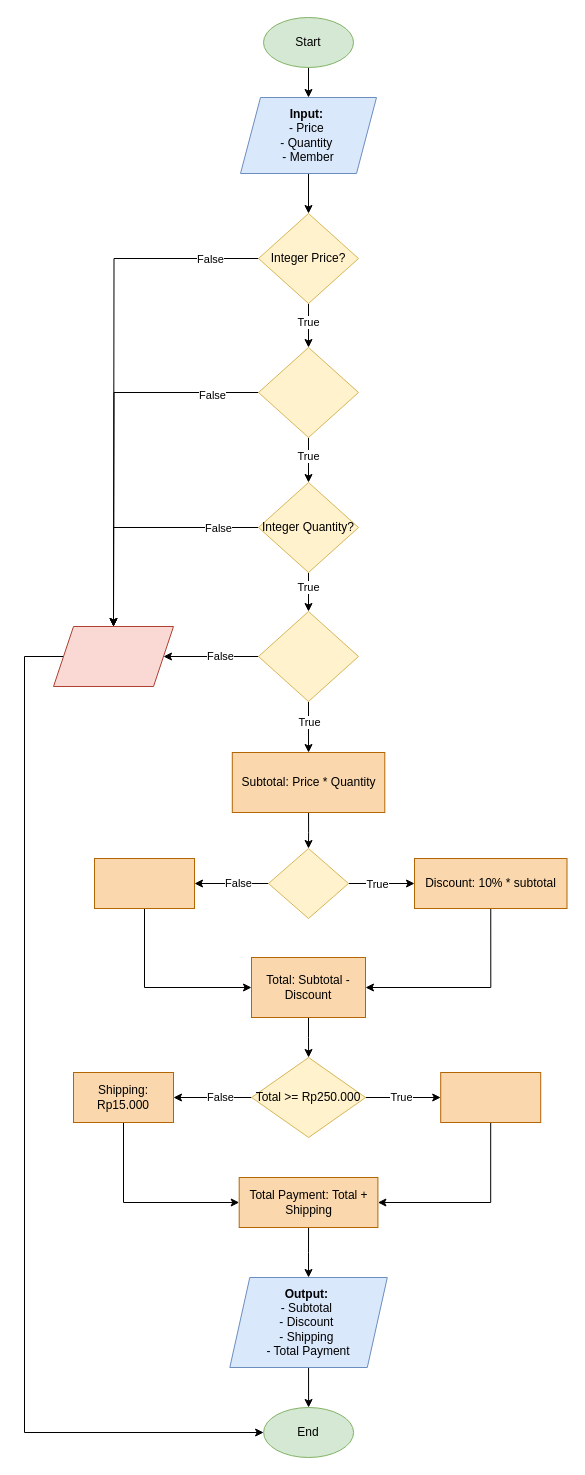
Image size: 585x1475. Some labels were removed from this diagram. Here are the shapes that lost their labels. From the top down, the box of each, then its label:
(258, 346, 358, 438): Price > 0?
(52, 626, 174, 686): Output: "Input tidak valid"
(258, 610, 358, 702): Quantity > 0?
(94, 858, 194, 908): Discount: 0
(268, 848, 348, 918): Member?
(440, 1072, 541, 1122): Shipping: Rp0
